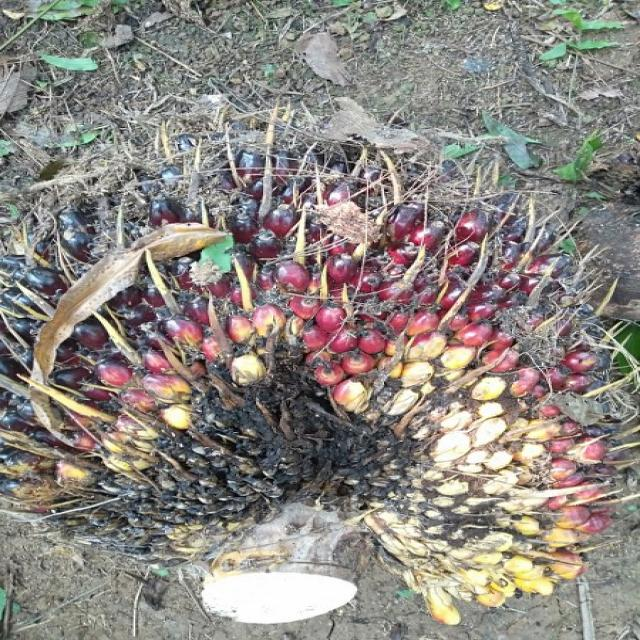fraksi 1: (0, 116, 640, 621)
